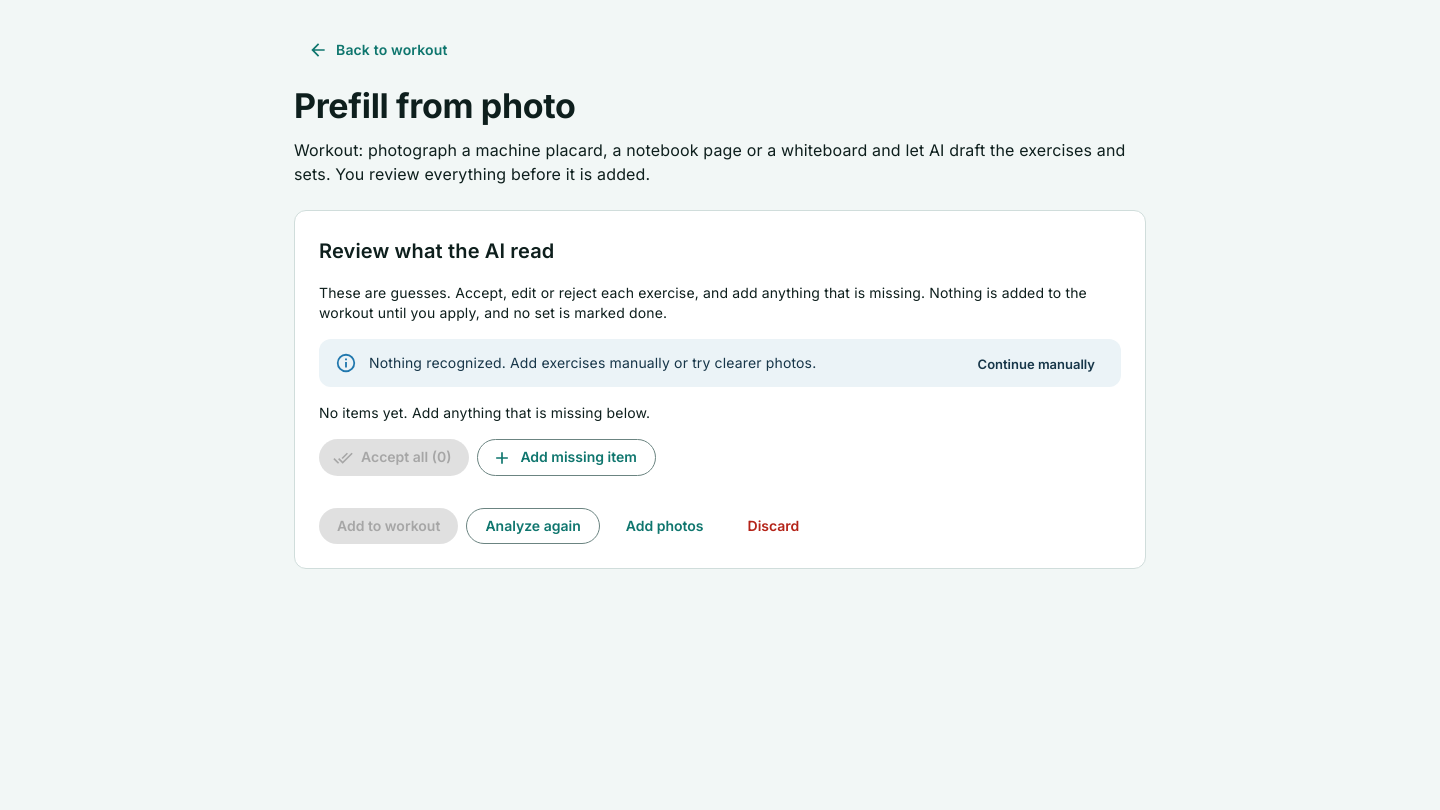
Scenario: WorkoutPrefillPage › says "Nothing recognized" when the AI found no exercises, with Continue manually
The width and height of the screenshot is (1440, 810).
Expected: the message with test id "prefill-nothing" shows "Nothing recognized. Add exercises manually or try clearer photos.", [369,354,816,371]
Expected: the button "Add to workout" is disabled, [319,508,458,544]
What coordinates should you click on to do the following:
click the button "Continue manually"
I would click on:
 (1036, 365)
Its box is [960,349,1113,380].
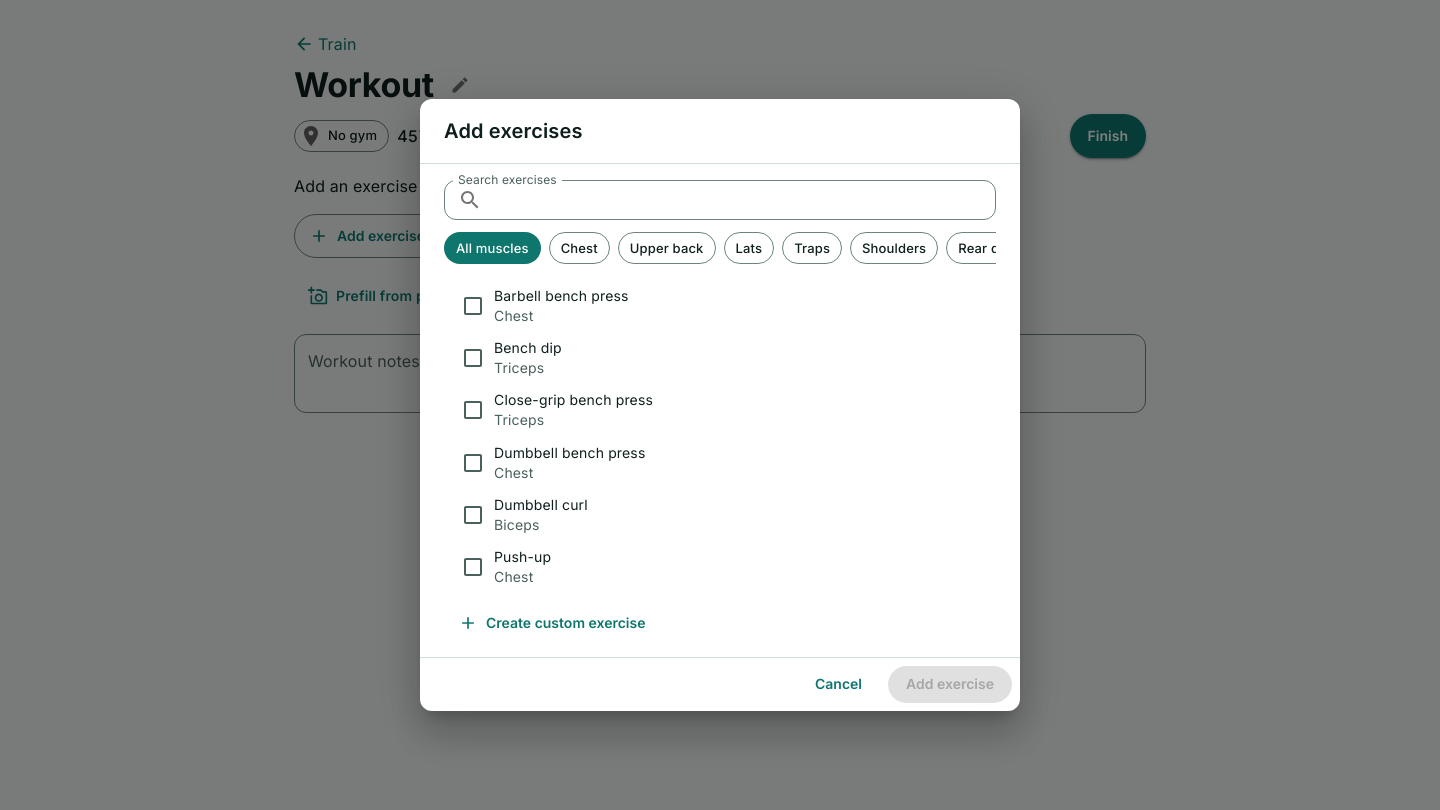
Now the dialog "Add exercises" is shown, box [420,99,1020,711]
